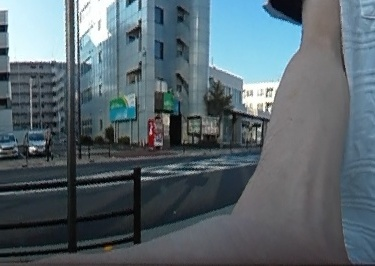person: (43, 123, 55, 161)
